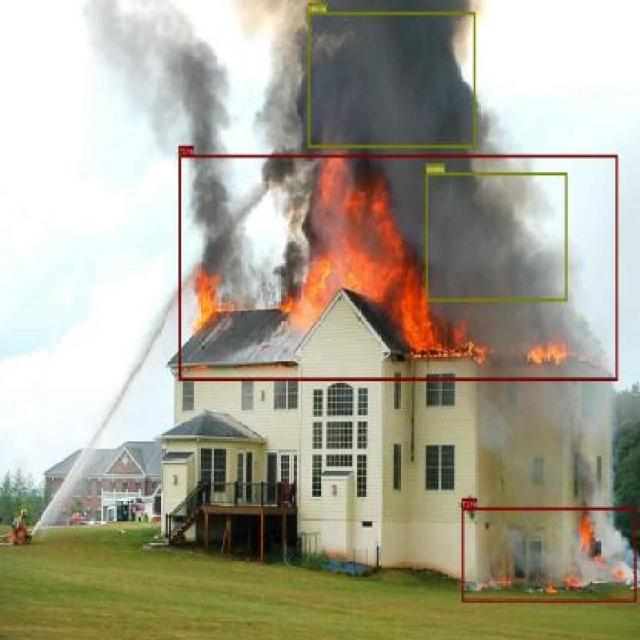fire: (178, 154, 617, 380), (462, 507, 636, 602)
smoke: (308, 11, 476, 147), (425, 172, 567, 302)
